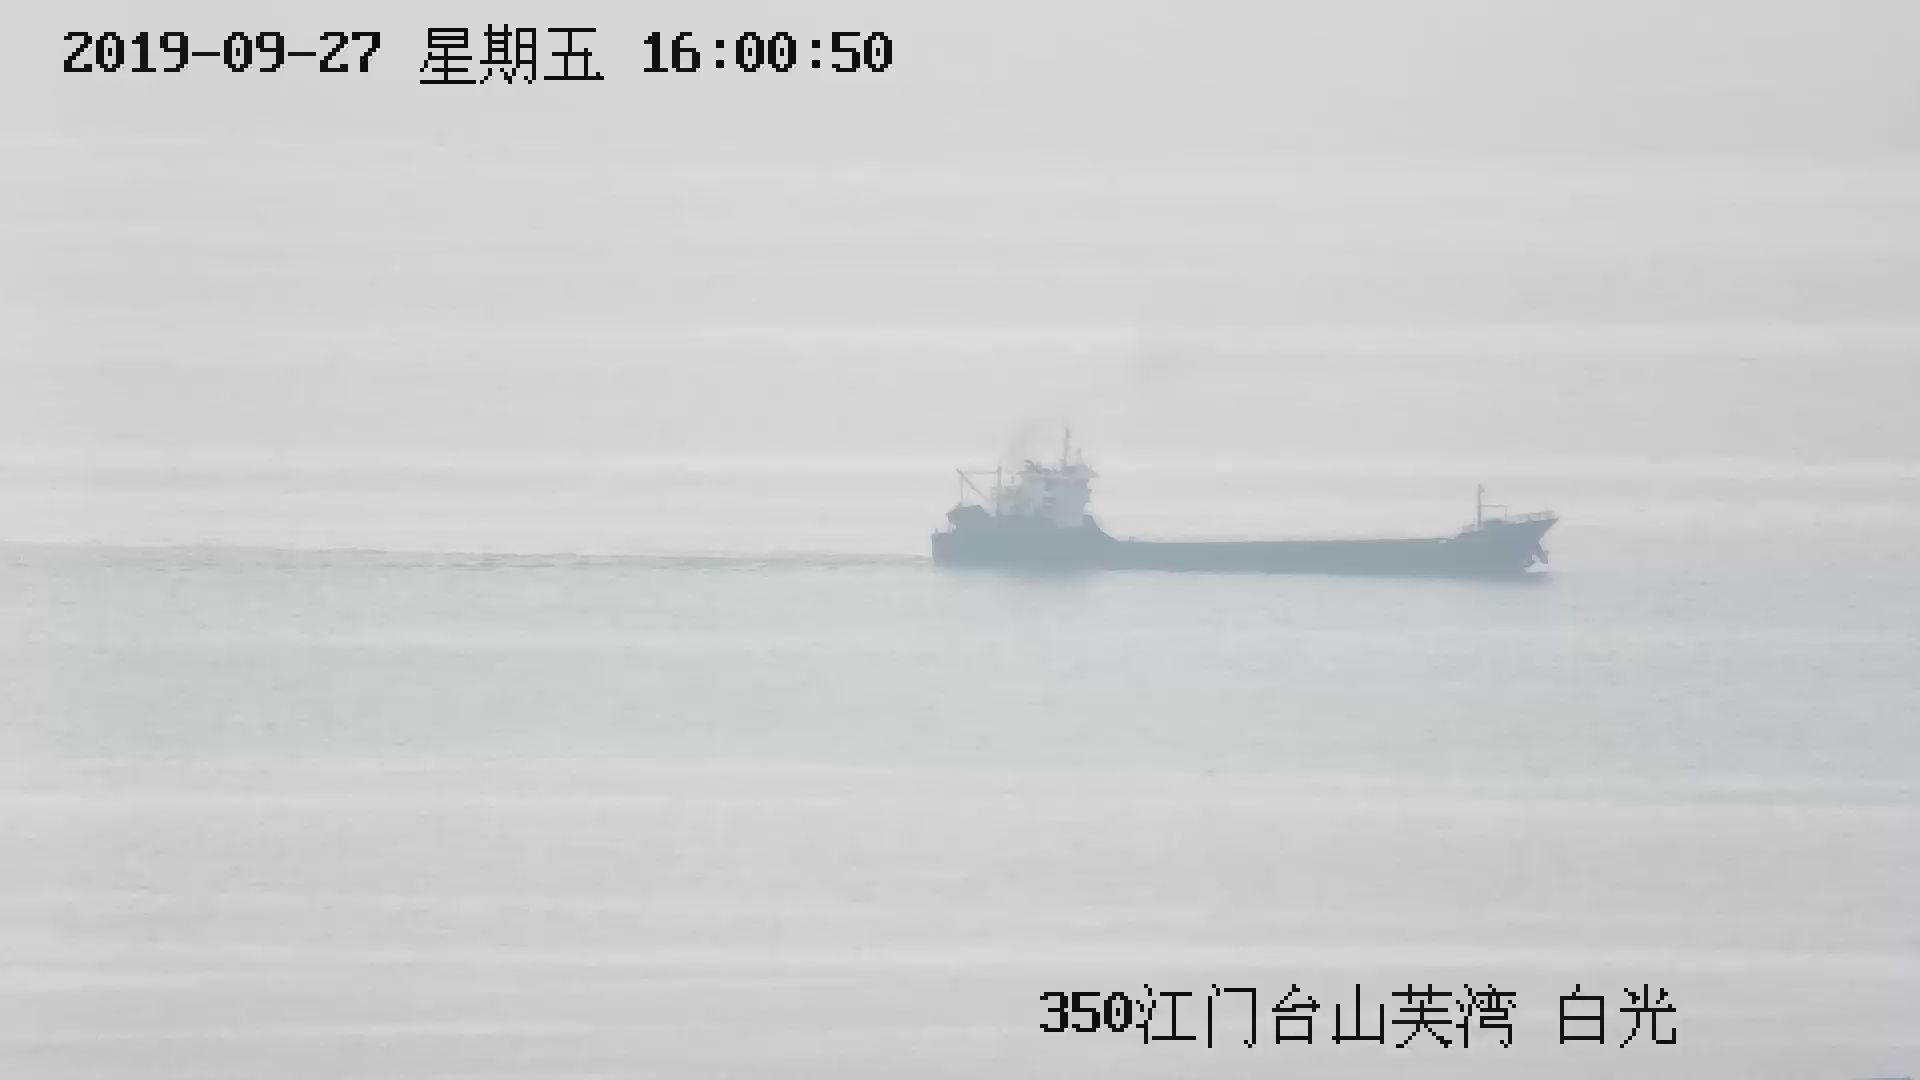ship: (936, 427, 1557, 585)
